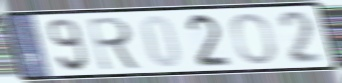0: (139, 14, 184, 70)
2: (185, 11, 234, 70), (277, 9, 326, 66)
9: (48, 17, 90, 73)
O: (229, 11, 279, 66)
R: (85, 15, 144, 73)
